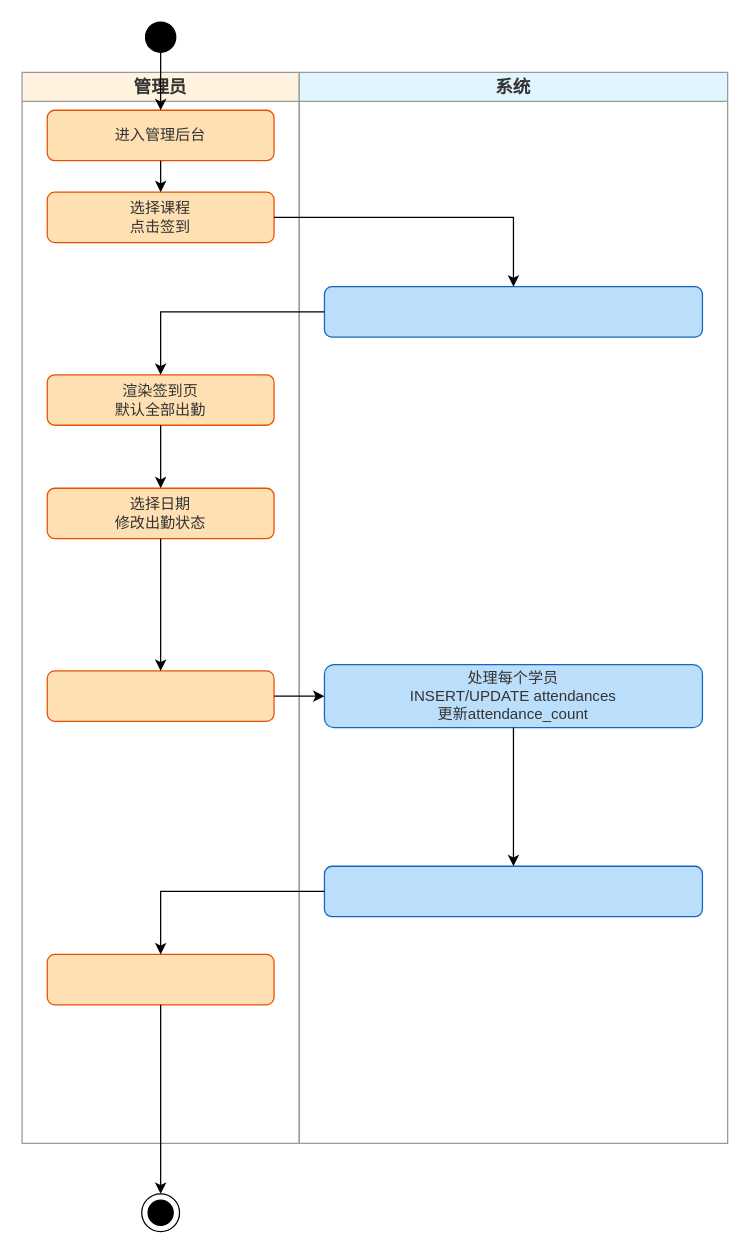
The diagram is 750 pixels wide and 1254 high, and some of its shapes have lost their labels. The shapes that lost their labels are listed below. From the top down, each one's centre as x and y in pixels, then its label:
[512,311]: 查询课程/学员 计算课次
[160,695]: 提交签到
[512,891]: COMMIT
[160,979]: 跳转后台 Toast成功
